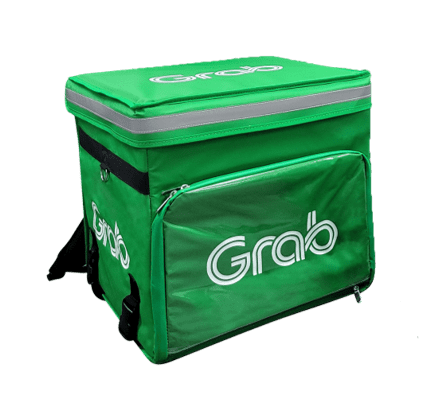bulk_waste: (48, 56, 374, 362)
